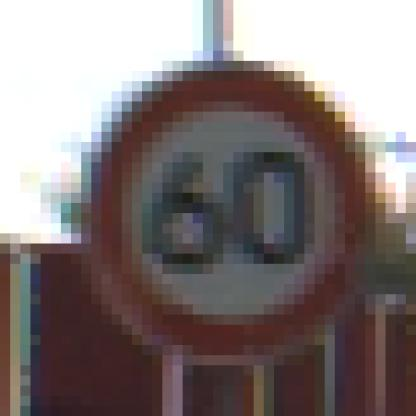Speed Limit 60: (94, 66, 364, 354)
